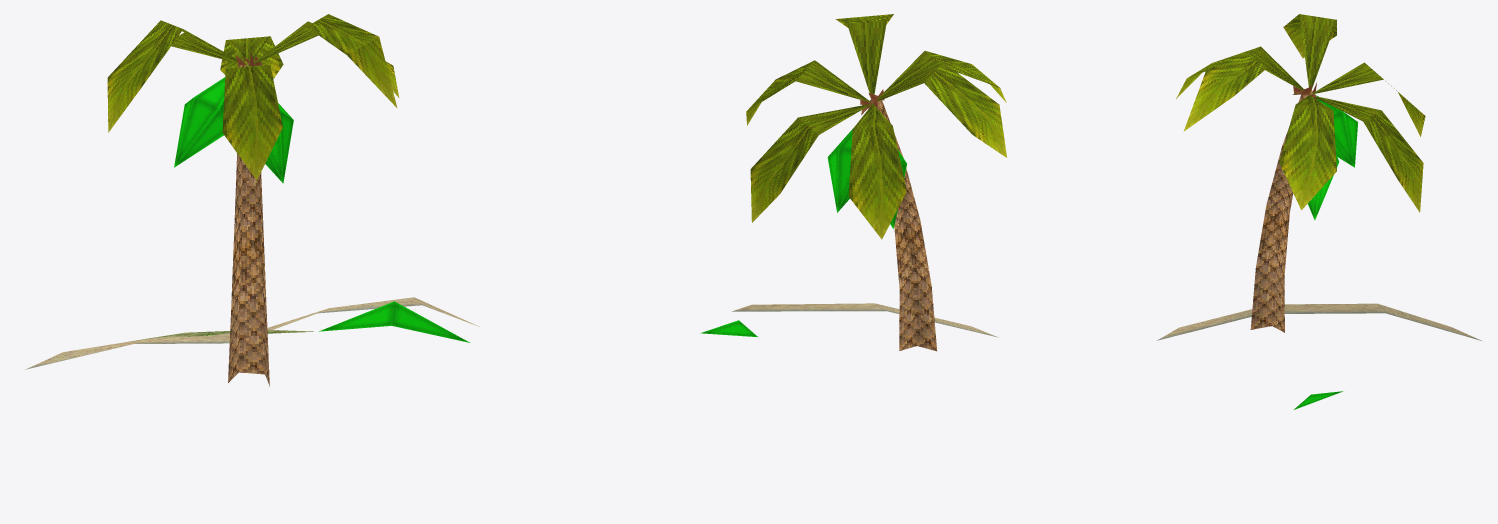
File: ps2_save-icons_sims2castaway.glb
The picture shows the model from 3 angles, left to right: view 1: azimuth 30°, elevation 25°; view 2: azimuth 150°, elevation 25°; view 3: azimuth 270°, elevation 25°; orthographic projection. The views are drawn at different scales.
Parts seen in each view (by area): view 1: saveicon.ico; view 2: saveicon.ico; view 3: saveicon.ico.
Part boxes in pixels (x1,y1,x2,y2): saveicon.ico: (25, 14, 479, 386); saveicon.ico: (700, 14, 1006, 351); saveicon.ico: (1157, 14, 1481, 409).
Bounding box in the file's own units: 4.88 × 4.06 × 4.06.
1 material, 1 textured.
